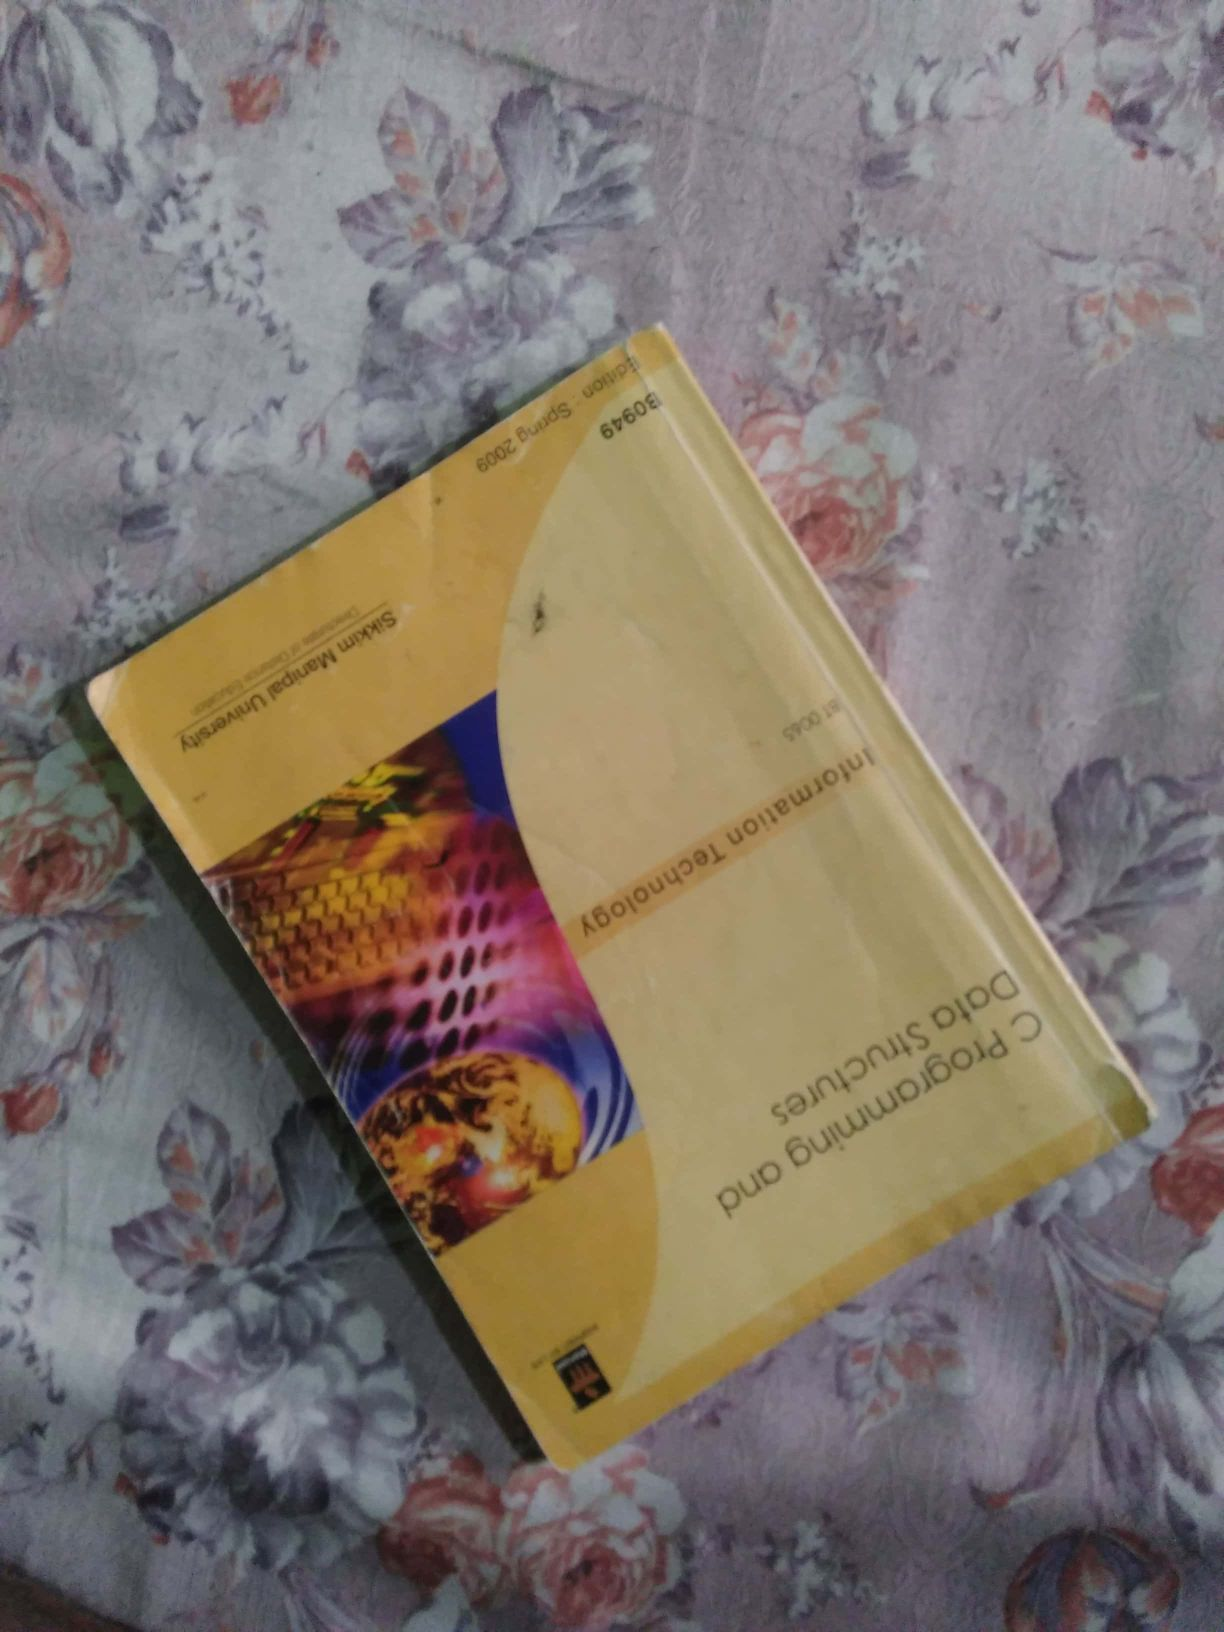clang: (98, 389, 1155, 1502)
